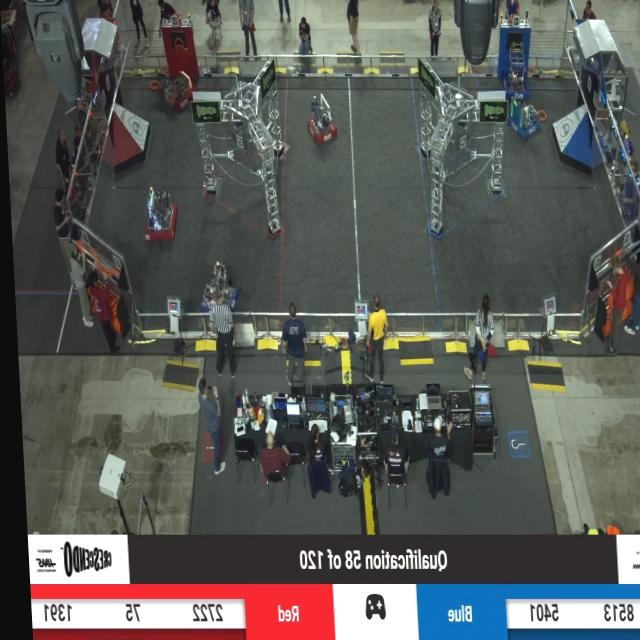Robot: (192, 257, 237, 316), (139, 185, 178, 243), (497, 34, 529, 104), (302, 90, 336, 148), (502, 94, 537, 143), (158, 64, 192, 113)
